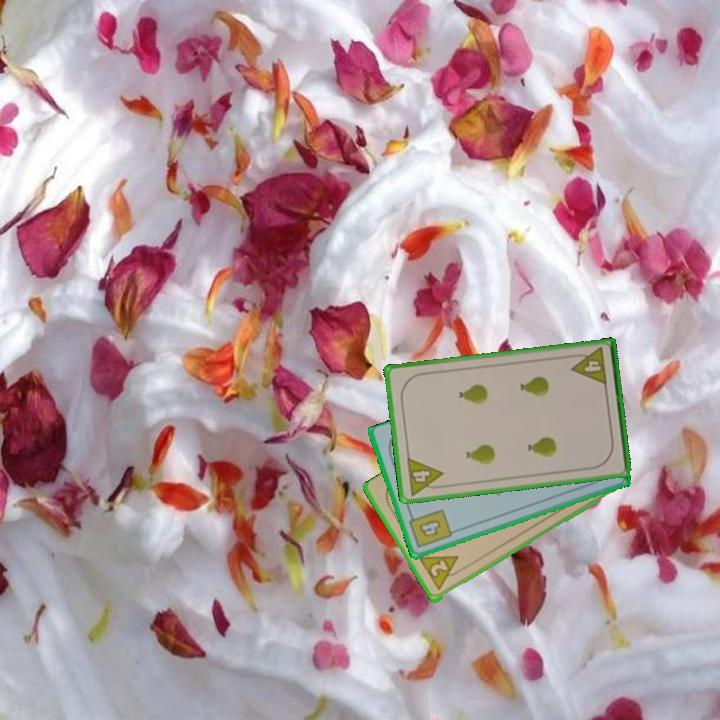2p: (416, 552, 467, 595)
4b: (405, 506, 455, 551)
4p: (403, 454, 447, 498), (567, 344, 610, 388)
